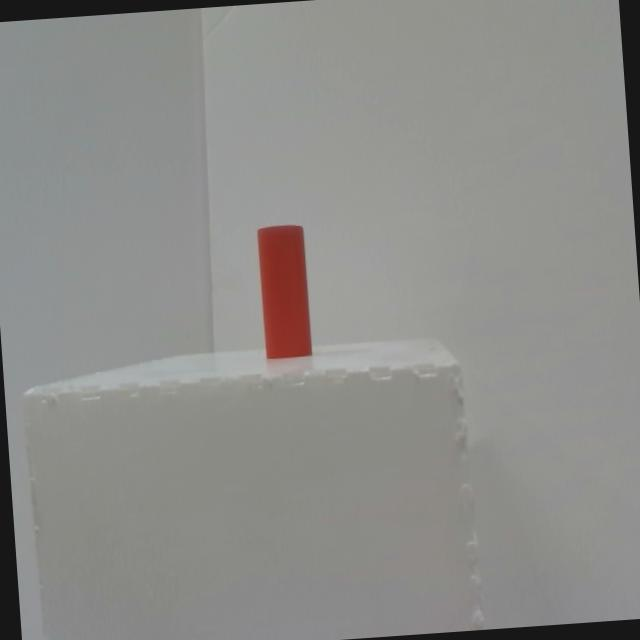red_cylinder: (256, 222, 312, 358)
